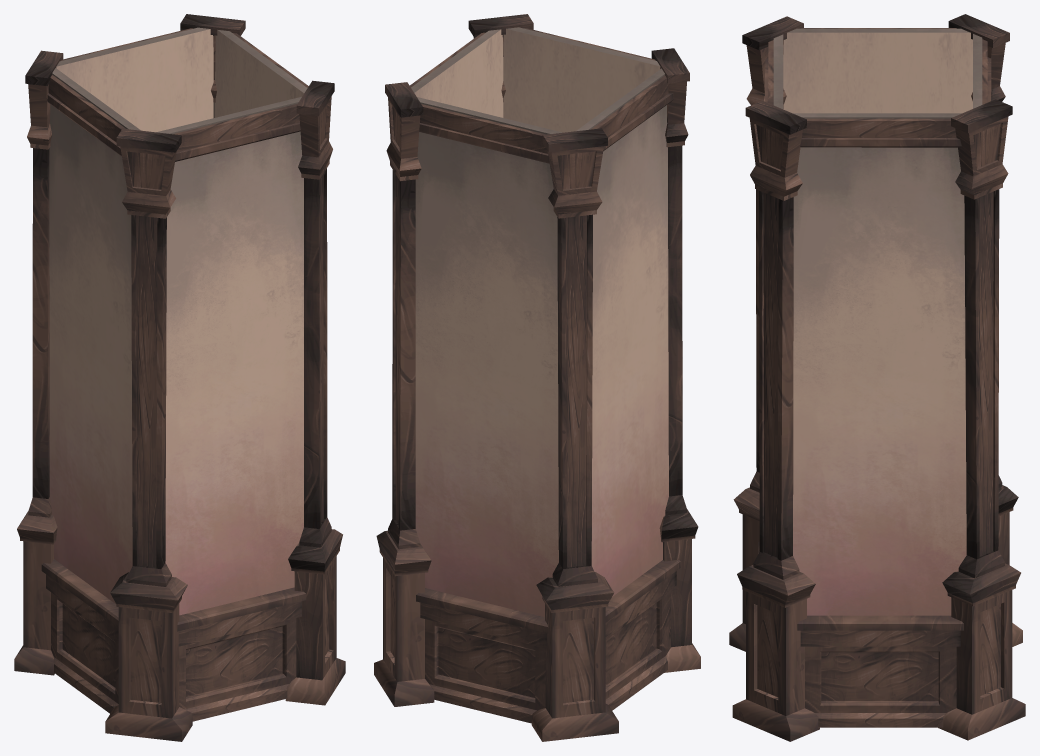
File: Wall_Full_Half_Pillar_V1.fbx
3 views of the same model, side by side, from view 1: azimuth 30°, elevation 25°; view 2: azimuth 150°, elevation 25°; view 3: azimuth 270°, elevation 25° (orthographic). The views are drawn at different scales.
Parts seen in each view (by area): view 1: Full_HalfPillar; view 2: Full_HalfPillar; view 3: Full_HalfPillar.
Part boxes in pixels (x1,y1,x2,y2): Full_HalfPillar: (14,14,345,741); Full_HalfPillar: (374,14,700,741); Full_HalfPillar: (729,14,1025,741).
Bounding box in the file's own units: 0.0184 × 0.0424 × 0.0186.
